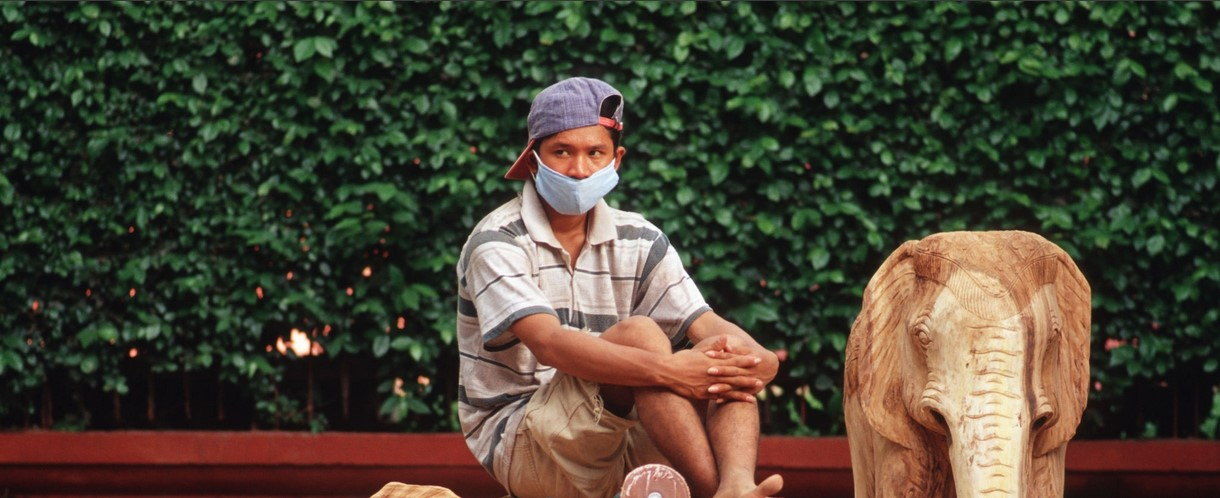face_with_mask: (511, 75, 630, 227)
